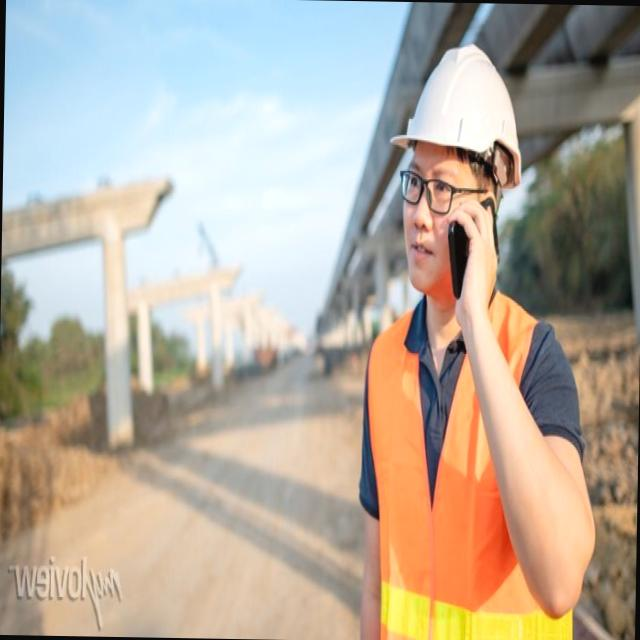goggles: (386, 159, 512, 226)
helmet: (387, 32, 529, 189)
vest: (359, 283, 578, 640)
